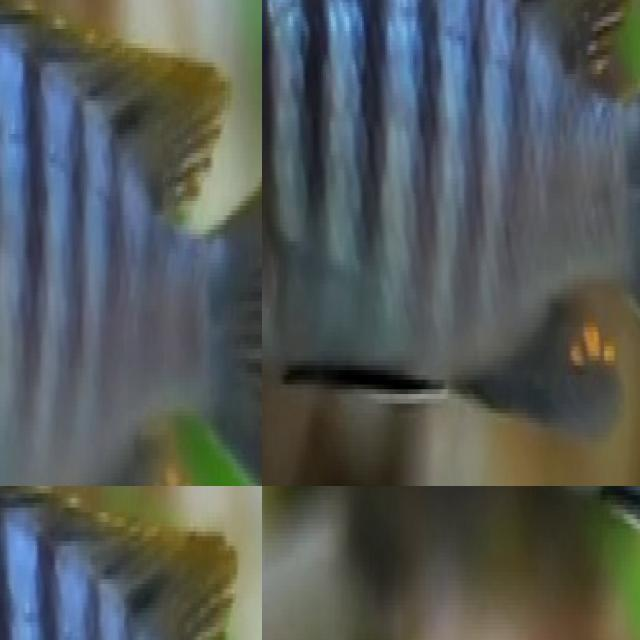fish: (262, 0, 640, 475), (0, 0, 262, 486), (0, 486, 262, 640), (445, 486, 640, 640)
